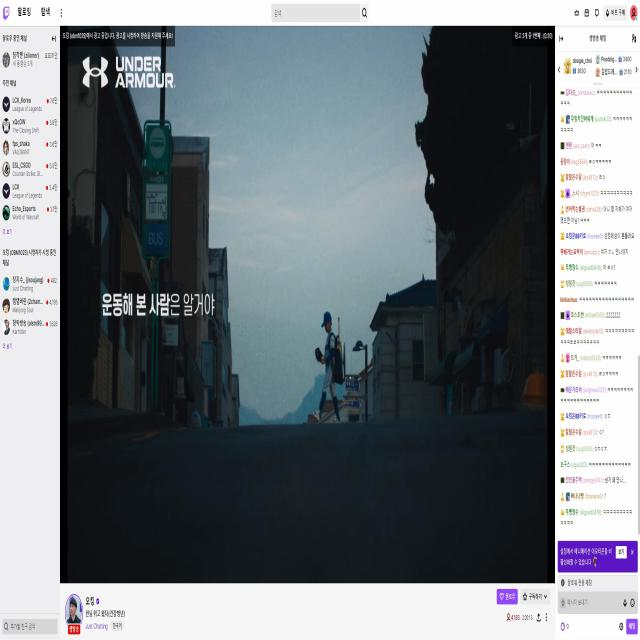search: (2, 617, 58, 639)
tab-bar: (1, 2, 63, 20)
